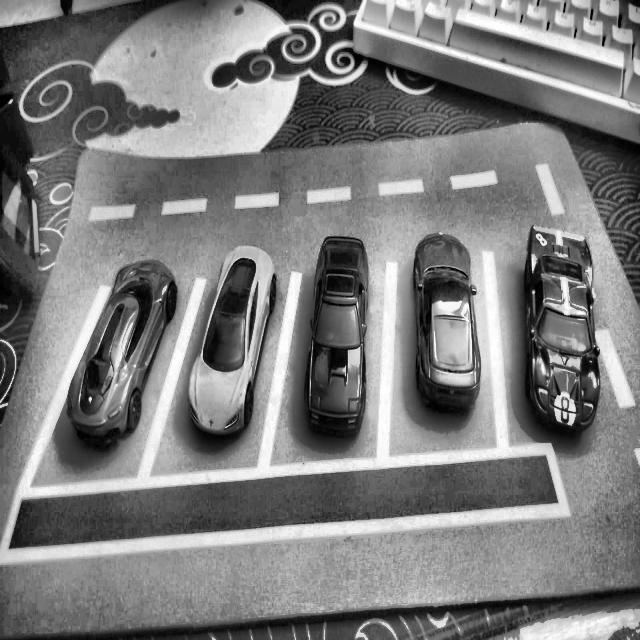car: (66, 258, 177, 443), (186, 245, 276, 437), (524, 224, 600, 432), (304, 234, 368, 436), (413, 232, 481, 412)
